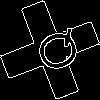Q: (25, 25, 85, 79)
